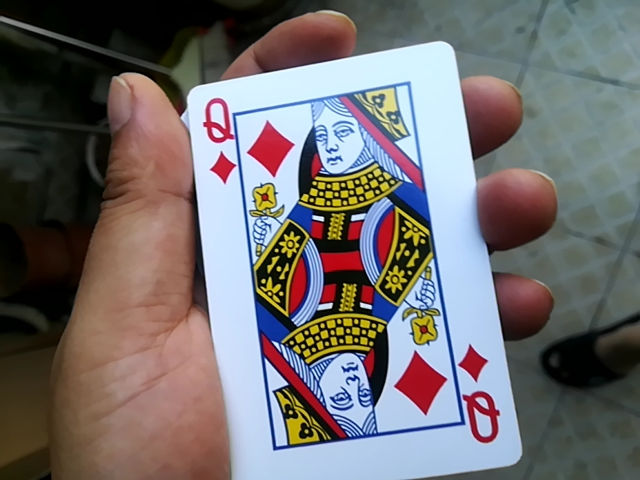fk q: (185, 43, 496, 479)
